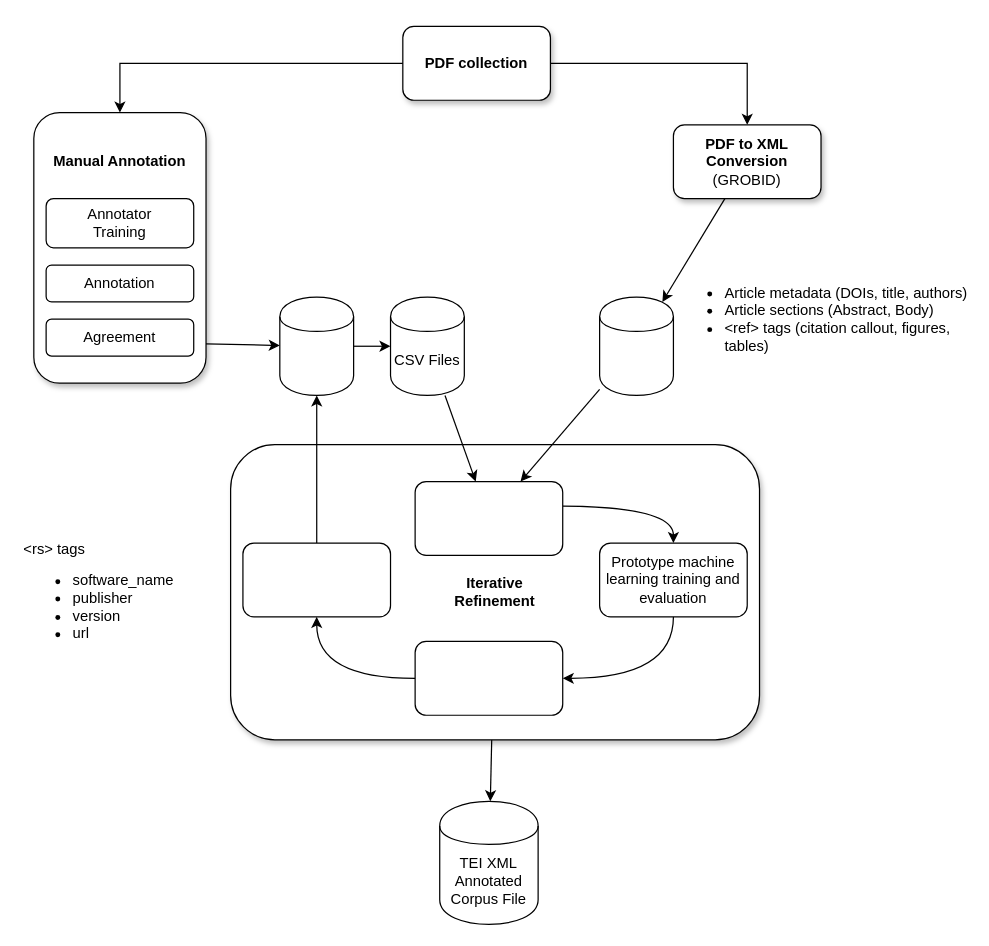
This 989x946 diagram has some shape labels left out. Each missing label, with the centre of its shape:
Alignment: pixel 488 517
Consistency Improvement: pixel 488 677
Expert Review and Curation: pixel 316 579
RDF Files: pixel 316 345
TEI XML Files: pixel 635 345
